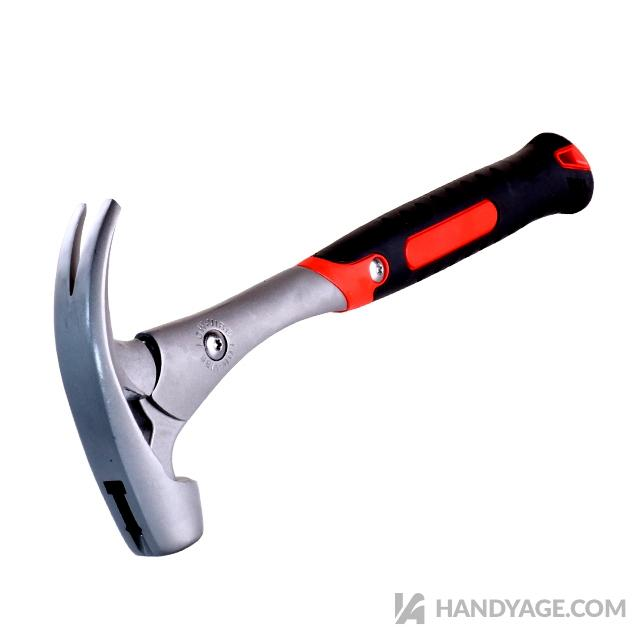hammer: (39, 121, 602, 564)
